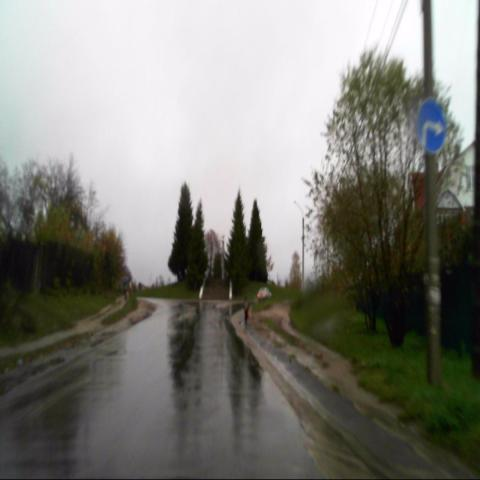4_1_2: (418, 100, 446, 153)
